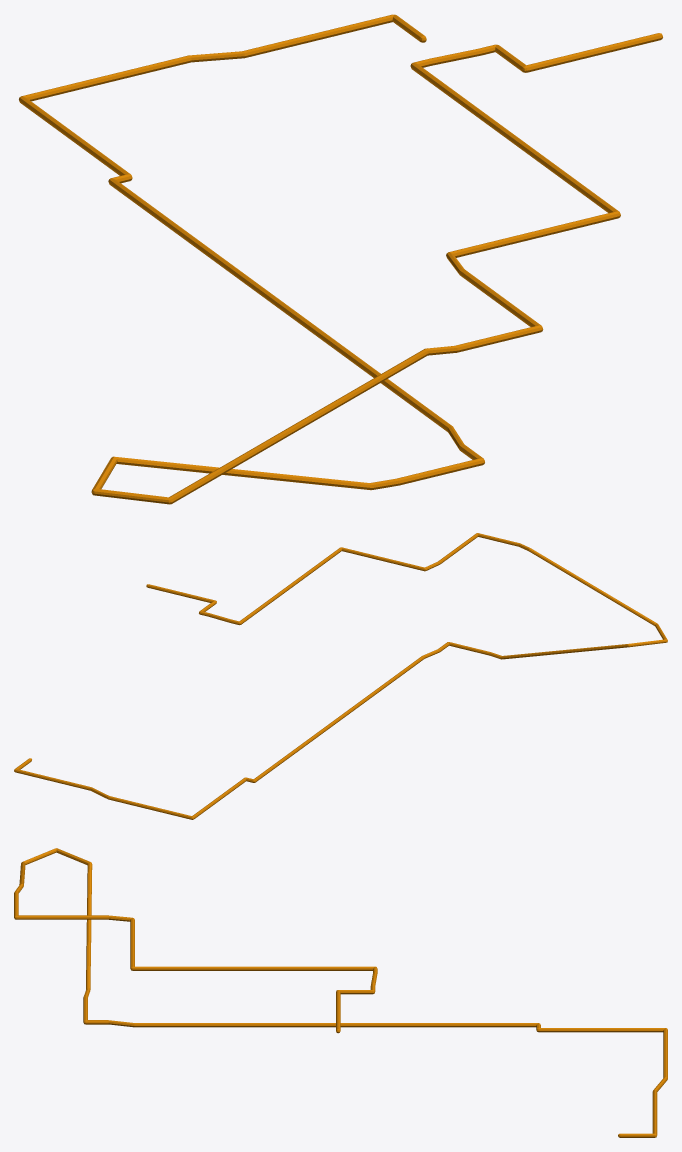
3 renders of one model, top to bottom at view 1: azimuth 30°, elevation 25°; view 2: azimuth 150°, elevation 25°; view 3: azimuth 270°, elevation 25°, orthographic. The views are drawn at different scales.
Bounding box in the file's own units: 2409 × 520 × 2831.
